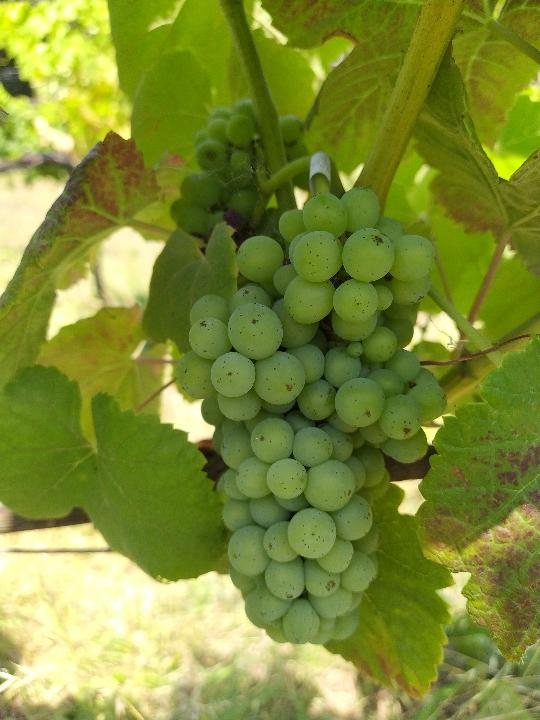grape: (190, 186, 452, 647)
